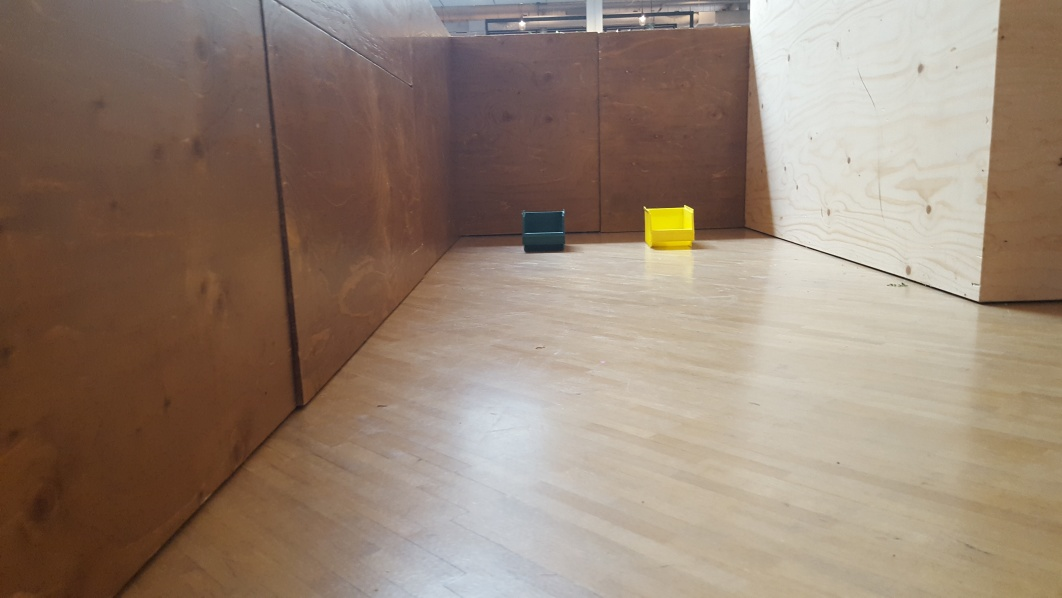tray: (640, 203, 696, 247), (523, 209, 568, 252)
